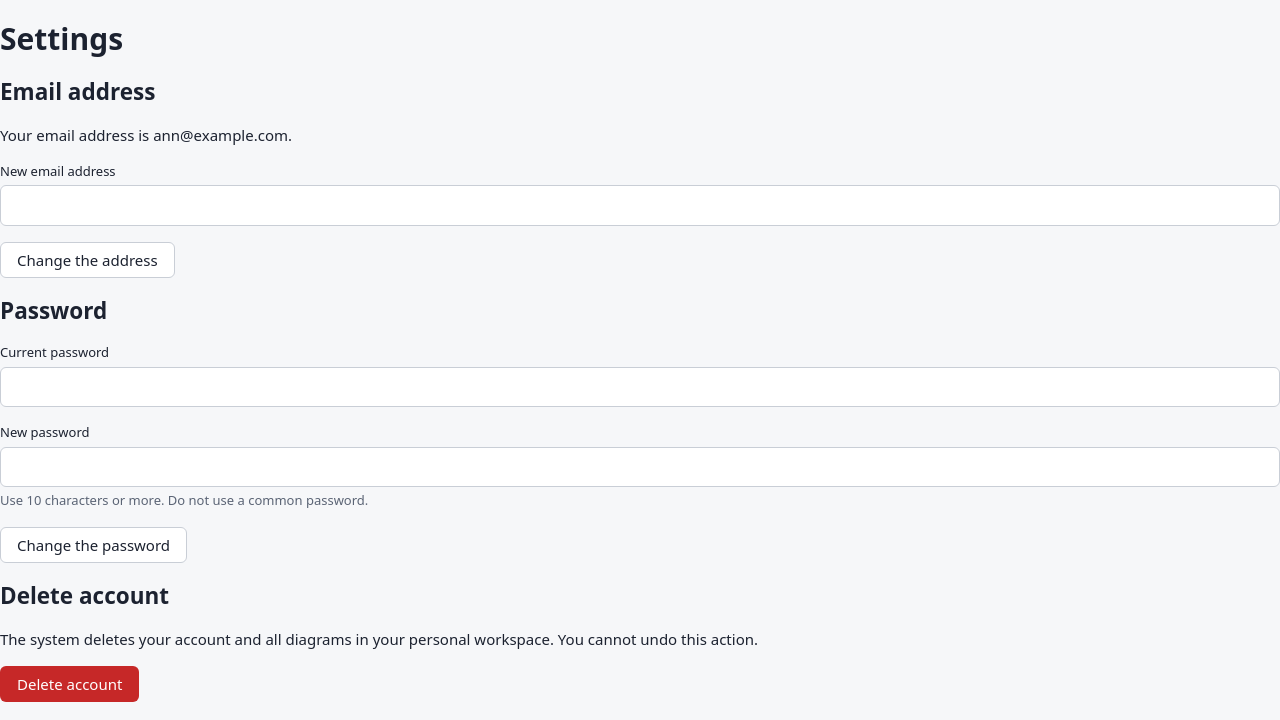
Test case: auth requirements › AUTH-005 account delete asks for the password, deletes the account, and logs out
Click the button "Delete account". click: (70, 684)
box: [0,666,139,702]
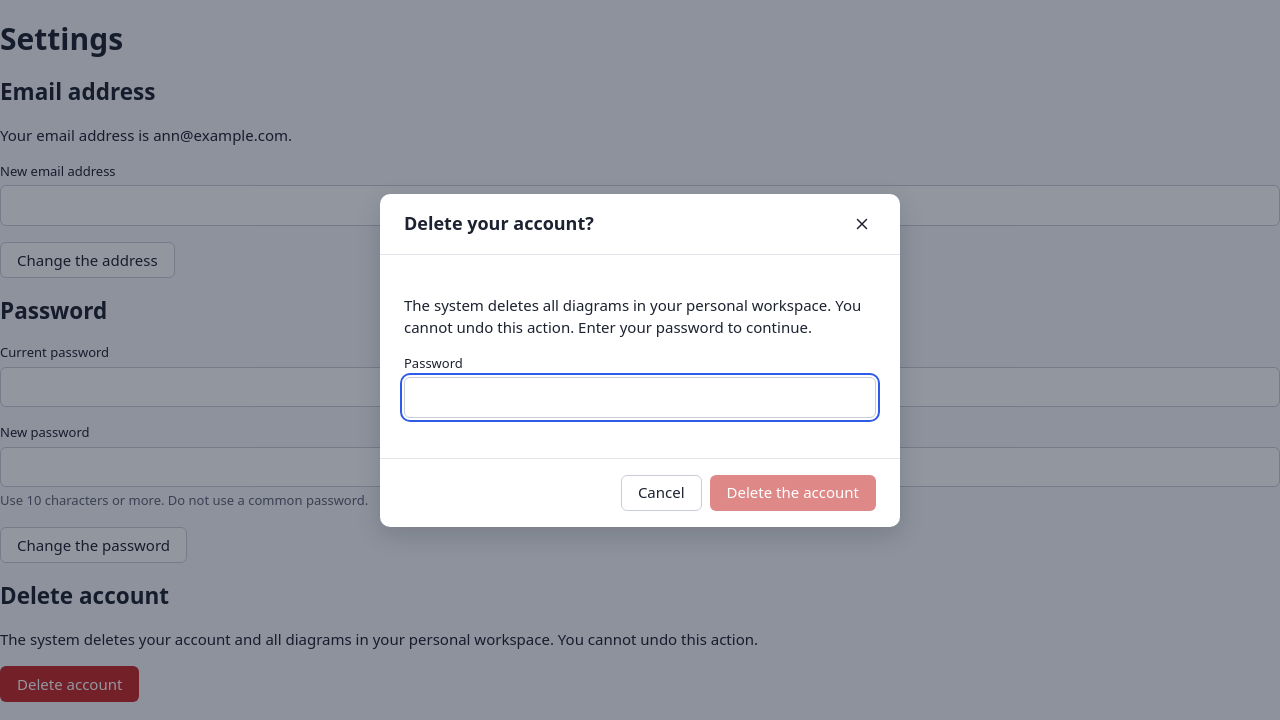
expect the text "The system deletes all diagrams in your personal workspace. You cannot undo this action. Enter your password to continue" is shown: met, box [404,294,861,337]
Type "a-long-password-1" into the password field labelled "Password". click: (640, 397)
box: [404,377,876,418]
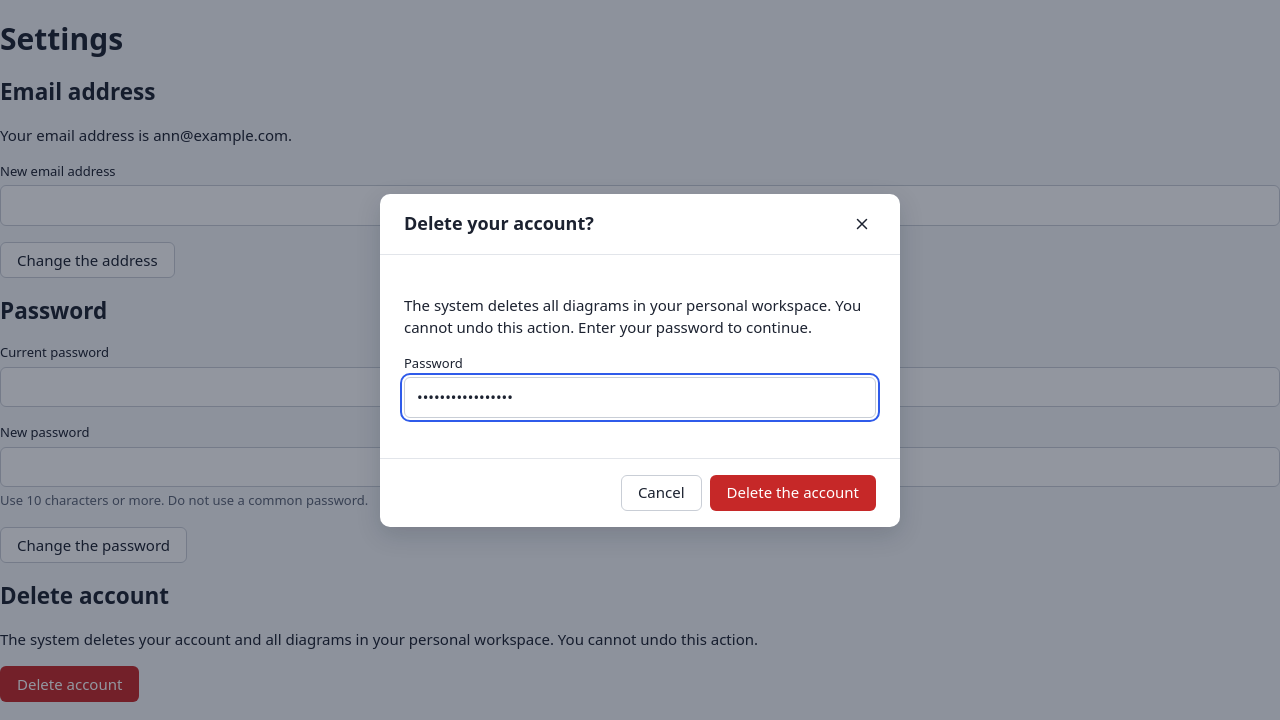
Click the button "Delete the account". click: (793, 492)
box: [710,474,876,510]
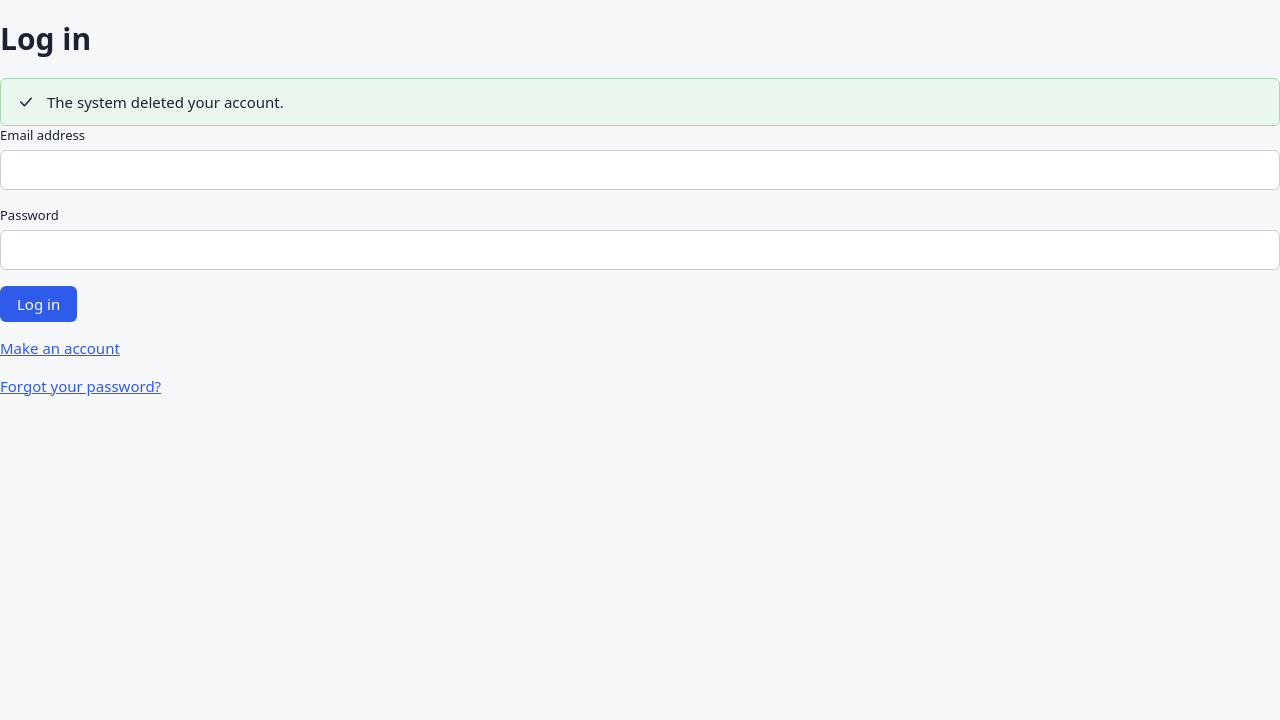
expect the text "The system deleted your account." is shown: met, box [47,92,284,112]
